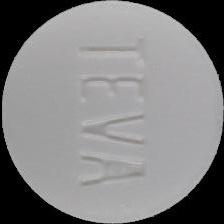0093-7271: (0, 0, 224, 224)
